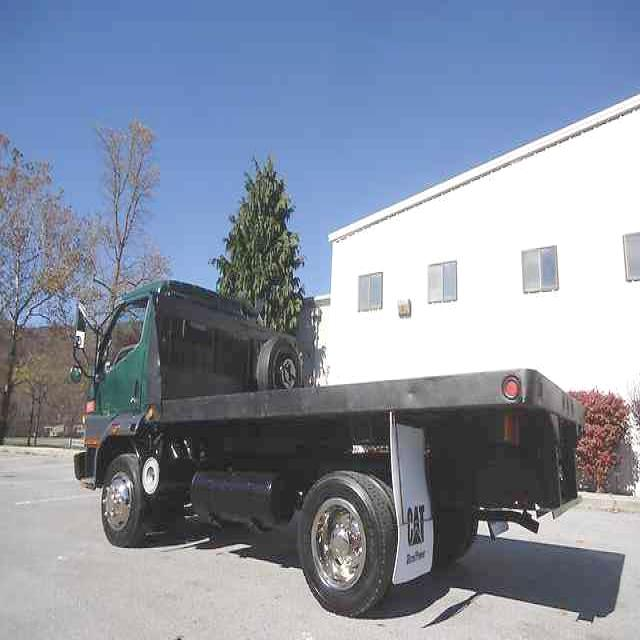truck: (74, 277, 585, 614)
